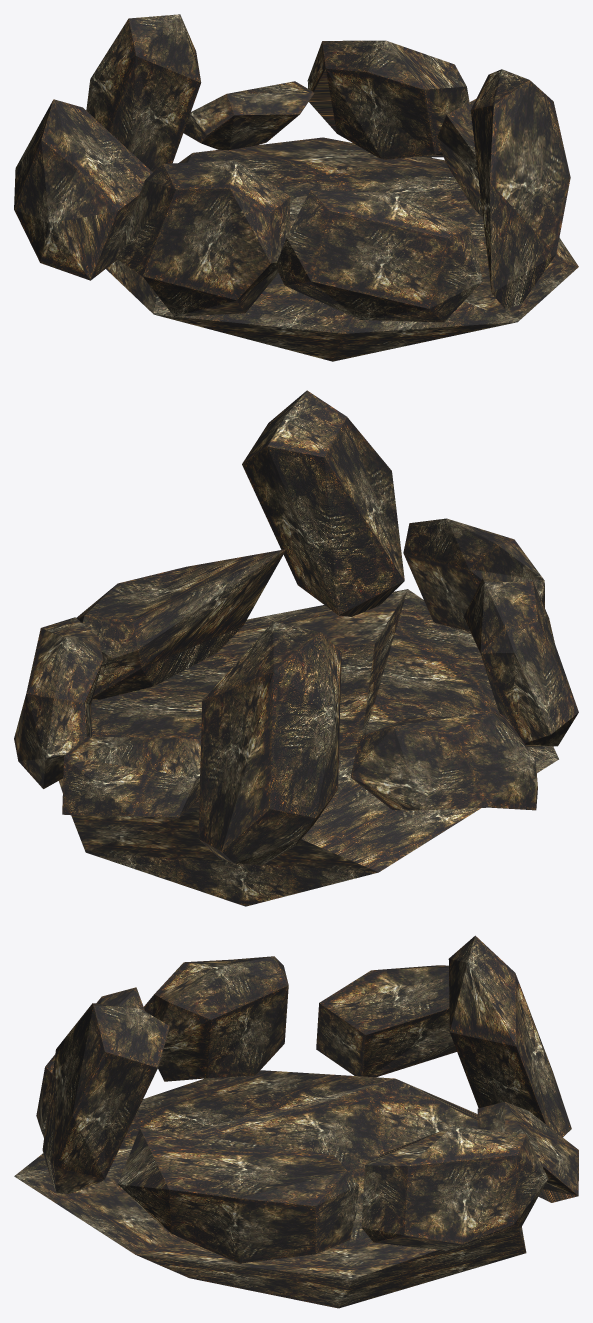
File: poi_all_lair_firepit_l1.fbx
3 views of the same model, one above another, from view 1: azimuth 30°, elevation 25°; view 2: azimuth 150°, elevation 25°; view 3: azimuth 270°, elevation 25° (orthographic). The views are drawn at different scales.
Parts seen in each view (by area): view 1: mesh_node; view 2: mesh_node; view 3: mesh_node.
Boxes of the visible parts, left/top/right/bottom form: mesh_node: left=14, top=14, right=578, bottom=361; mesh_node: left=14, top=390, right=578, bottom=906; mesh_node: left=14, top=935, right=578, bottom=1308.
Size of the model in its own units: 2.59 by 1.51 by 2.75.
